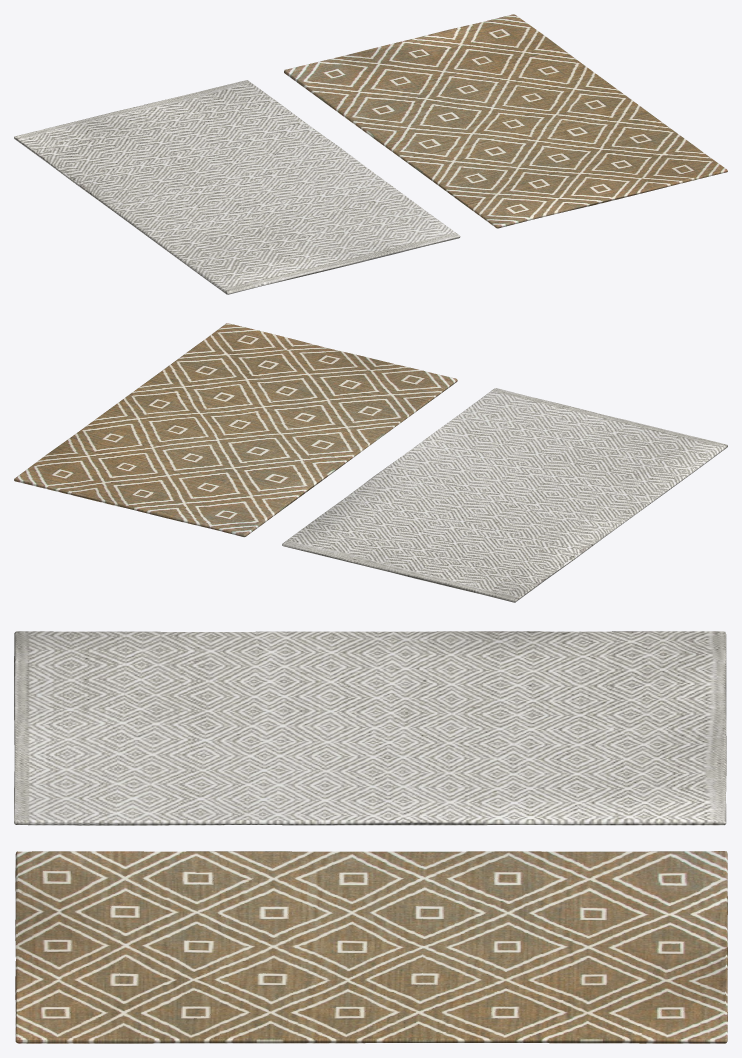
The model's file is tanzi.FBX.
The picture shows the model from 3 angles, top to bottom: view 1: azimuth 30°, elevation 25°; view 2: azimuth 150°, elevation 25°; view 3: azimuth 270°, elevation 25°; orthographic projection. The views are drawn at different scales.
Visible parts, largest first — view 1: Obj3d66-489046-1-573, Obj3d66-489046-2-60; view 2: Obj3d66-489046-1-573, Obj3d66-489046-2-60; view 3: Obj3d66-489046-1-573, Obj3d66-489046-2-60.
Part boxes in pixels (<box>): Obj3d66-489046-1-573: <box>14,80,460,294</box>; Obj3d66-489046-2-60: <box>284,14,727,228</box>; Obj3d66-489046-1-573: <box>282,388,727,602</box>; Obj3d66-489046-2-60: <box>14,323,457,537</box>; Obj3d66-489046-1-573: <box>14,631,726,825</box>; Obj3d66-489046-2-60: <box>15,851,727,1043</box>.
Bounding box in the file's own units: 3799 × 29.25 × 2804.
2 materials, 2 textured.
